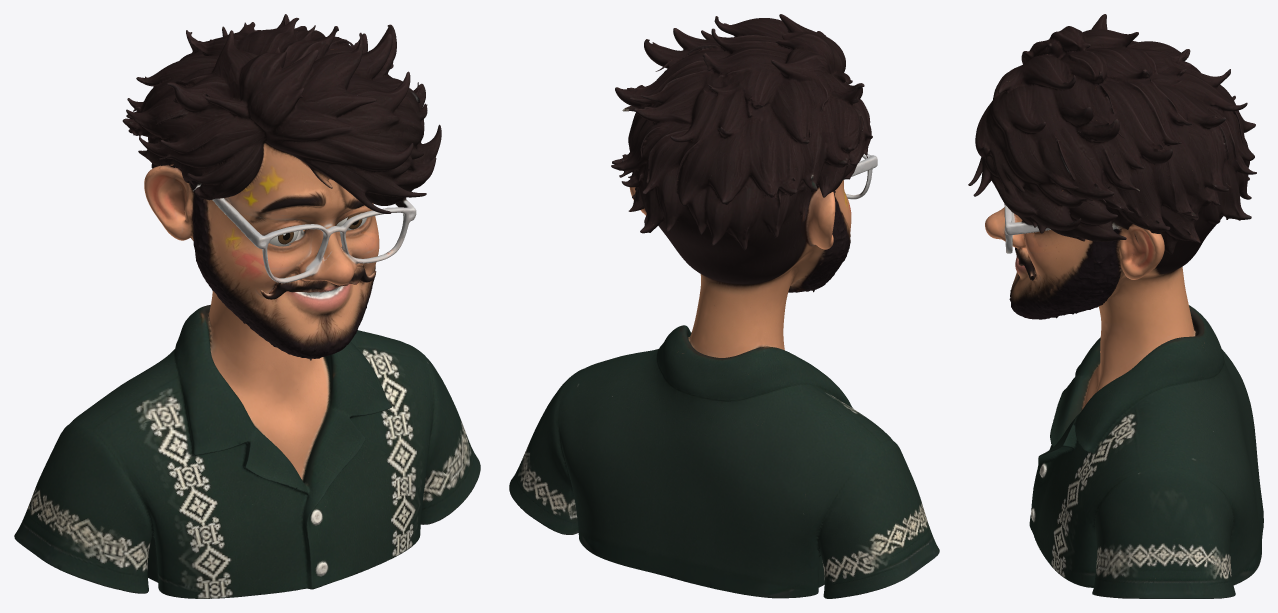
Rendered from bodhi-polished.glb.
3 views of the same model, side by side, from view 1: azimuth 30°, elevation 25°; view 2: azimuth 150°, elevation 25°; view 3: azimuth 270°, elevation 25° (orthographic). The views are drawn at different scales.
Visible parts, largest first — view 1: BodhiAvatar; view 2: BodhiAvatar; view 3: BodhiAvatar.
Part boxes in pixels (x1=…): BodhiAvatar: x1=14, y1=14, x2=480, y2=598; BodhiAvatar: x1=509, y1=14, x2=939, y2=598; BodhiAvatar: x1=968, y1=14, x2=1263, y2=598.
Size of the model in its own units: 1.62 by 1.9 by 1.04.
6 materials, 5 textured.
